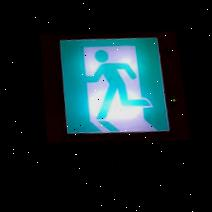emergency_exit: (58, 35, 172, 137)
